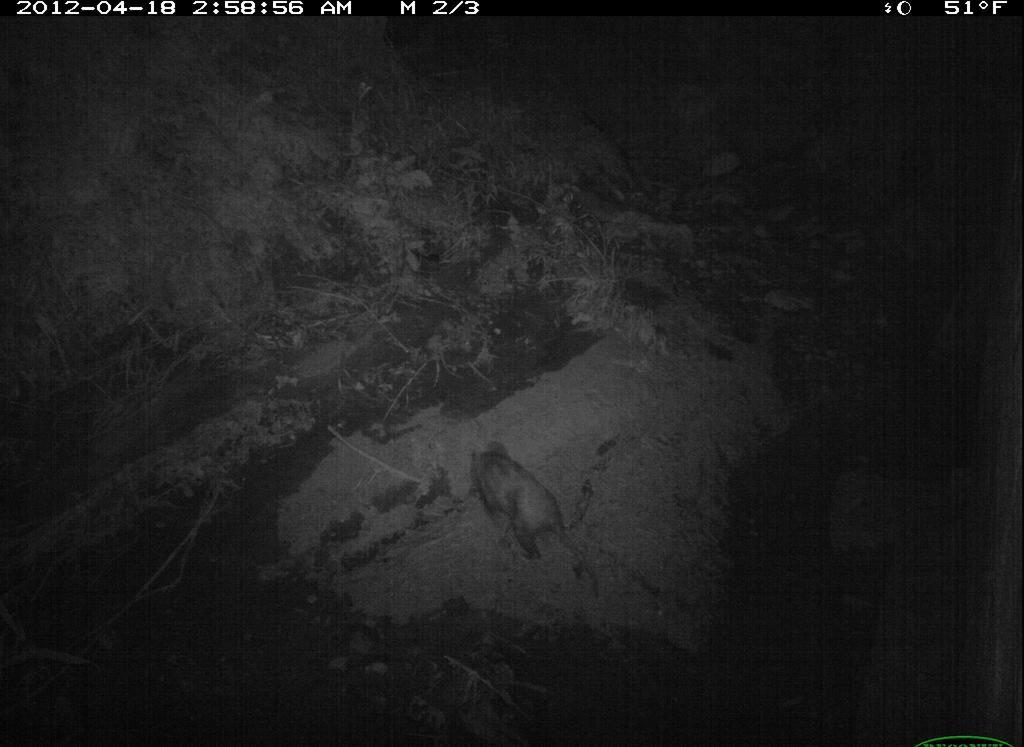opossum: (469, 429, 611, 607)
